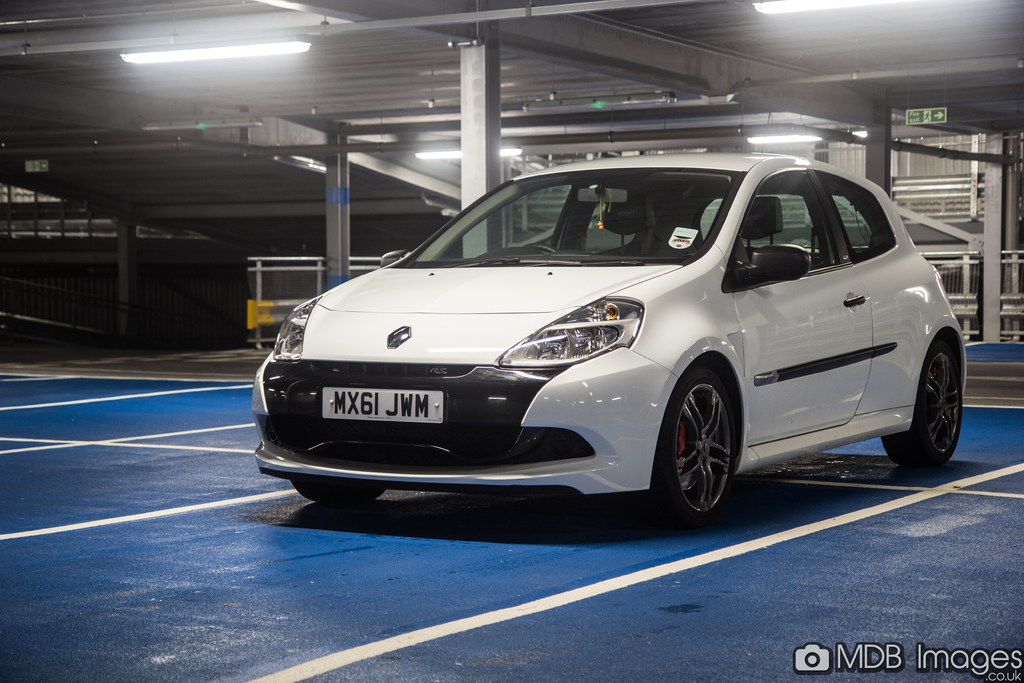mobil: (233, 135, 989, 556)
